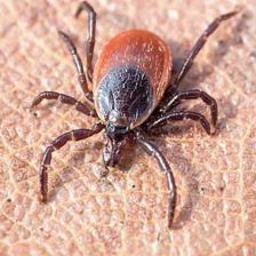Ixodes scapularis: (30, 2, 238, 230)
